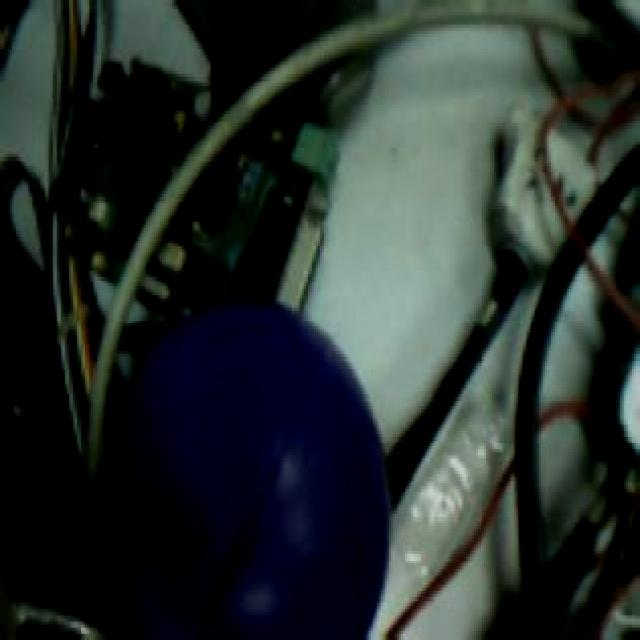BallPurple: (113, 298, 389, 640)
